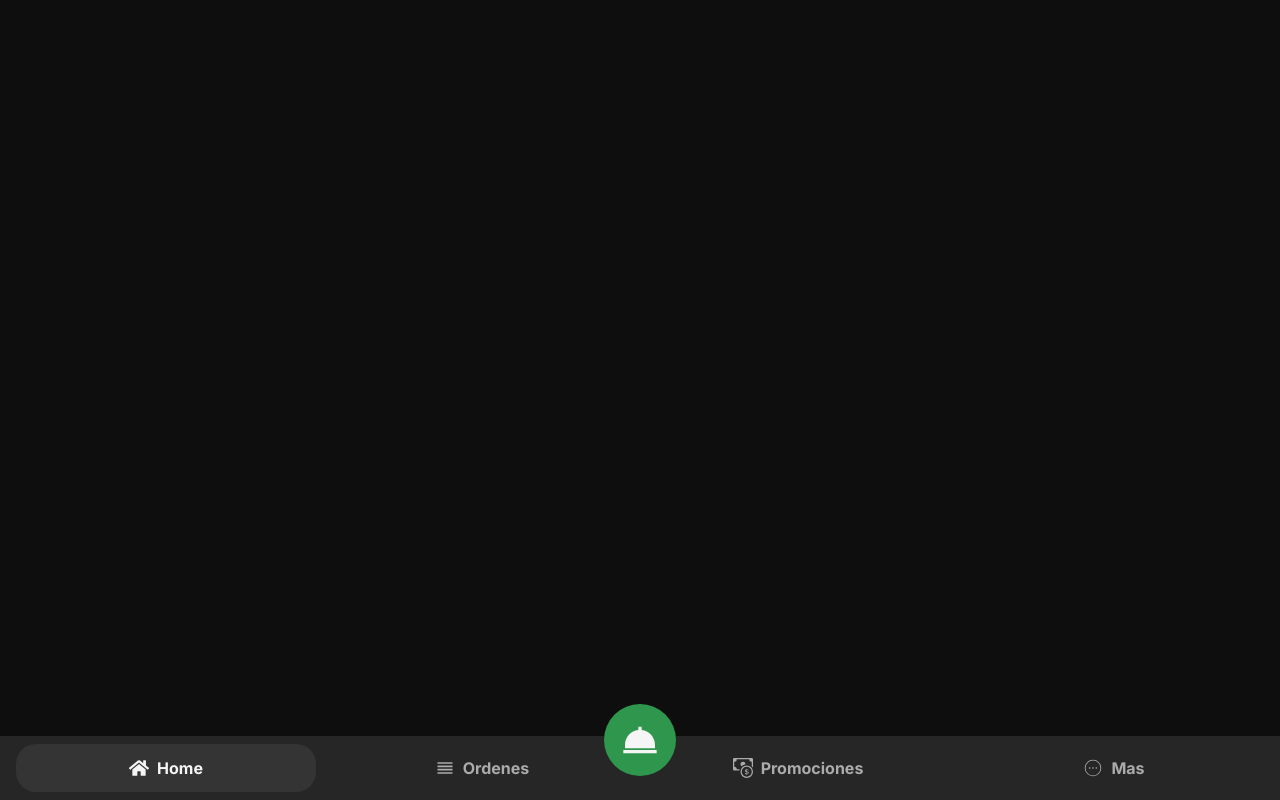
it: BottomNav › incrementa y decrementa el contador de comensales
The image size is (1280, 800).
Step 1. Click the button with class "bottom-6" → [640, 740], box [604, 704, 676, 776]
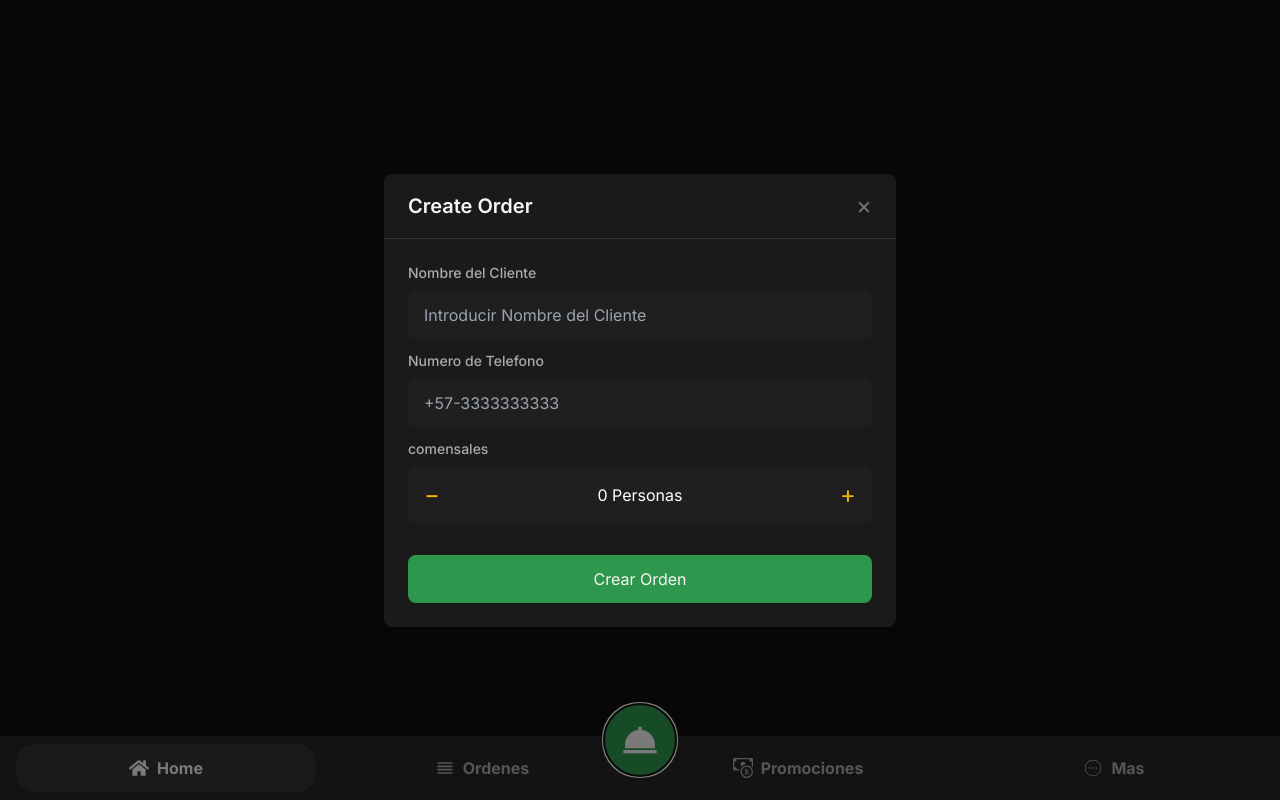
Step 2. Click the button "+" → [848, 494], box [840, 478, 856, 510]
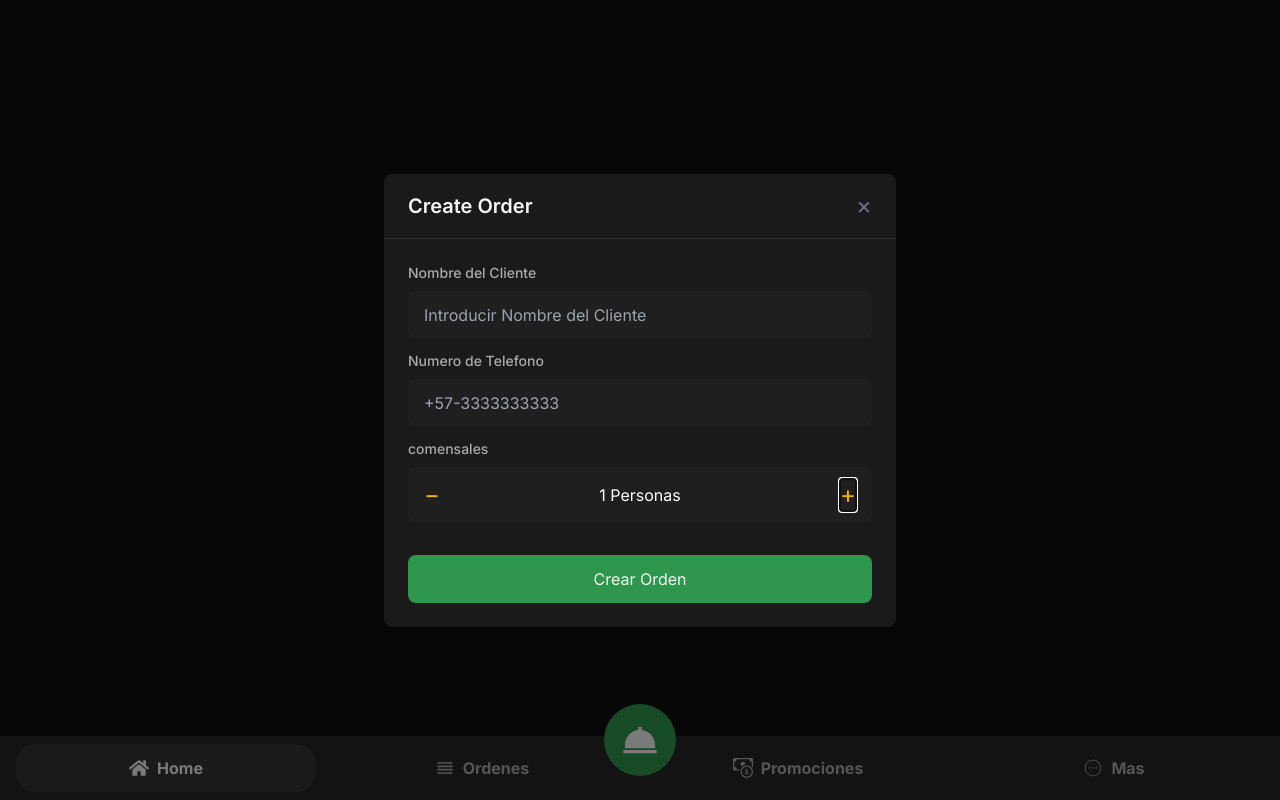
Check: the text "1 Personas" is shown, box [599, 482, 681, 506]
Step 3. Click the button "−" → [432, 494], box [424, 478, 440, 510]
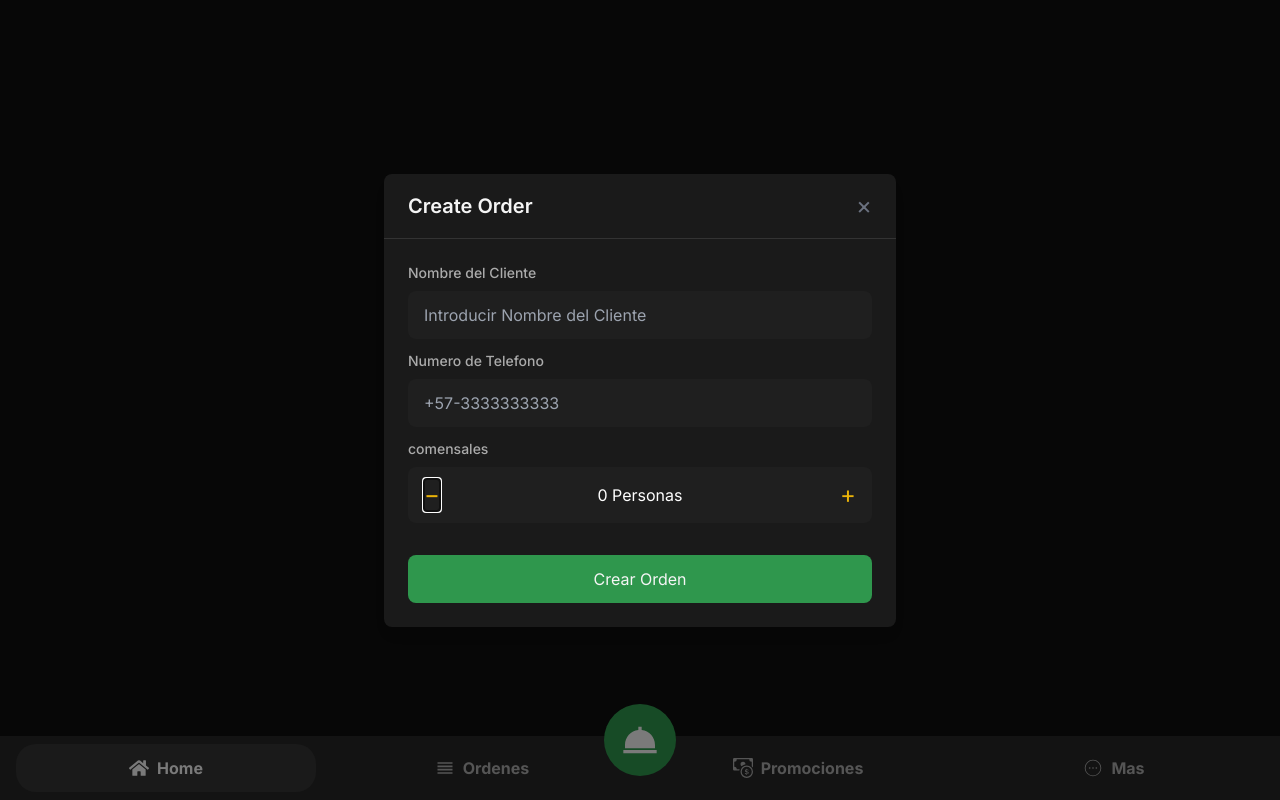
Check: the text "0 Personas" is shown, box [598, 482, 682, 506]
